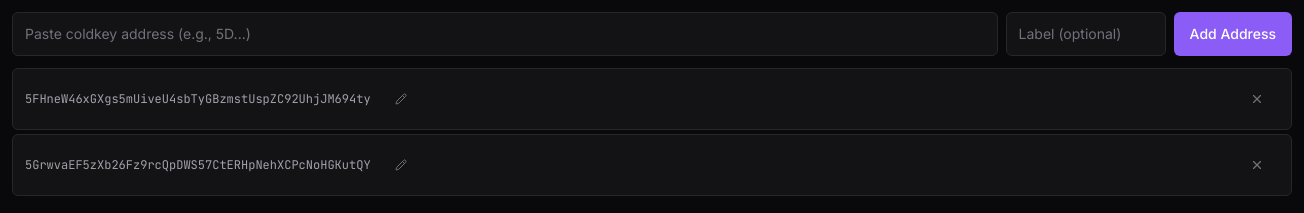
Test: AddressManager › shows confirmation before removing an address
Click the button named "remove address". click: (1257,99)
box: [1235,77,1279,121]
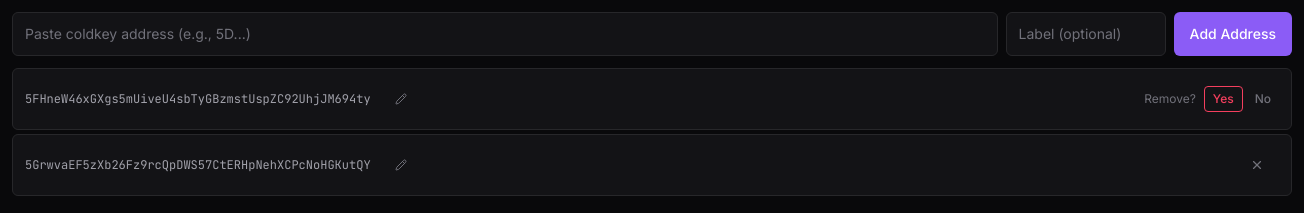
Now the text "Remove?" is shown, box [1144,91,1196,107]
Now the button with aria-label "confirm remove" is shown, box [1204,86,1243,112]
Now the button with aria-label "cancel remove" is shown, box [1247,87,1279,111]
